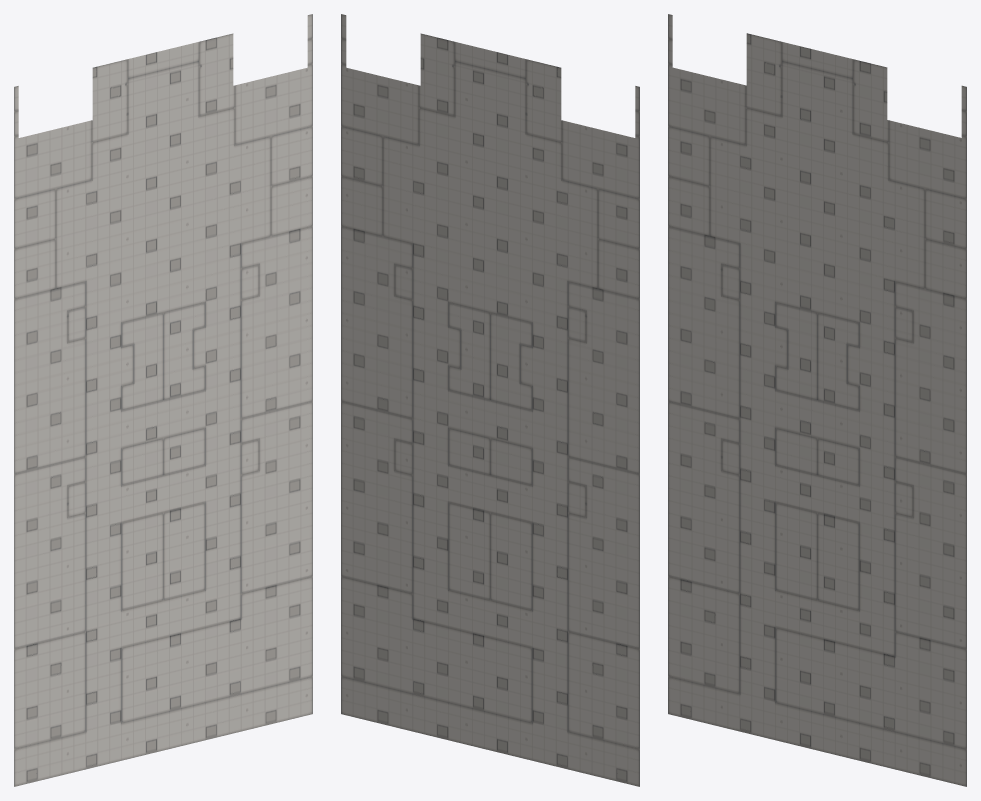
3 renders of one model, left to right at view 1: azimuth 30°, elevation 25°; view 2: azimuth 150°, elevation 25°; view 3: azimuth 330°, elevation 25°, orthographic.
Visible parts, largest first — view 1: node_0; view 2: node_0; view 3: node_0.
Boxes of the visible parts, x1,y1,x2,y2 form: node_0: [14, 14, 312, 786]; node_0: [341, 14, 639, 786]; node_0: [668, 14, 966, 786].
Bounding box in the file's own units: 25 × 55.99 × 0.
Materials: 1 (1 with a texture image).
